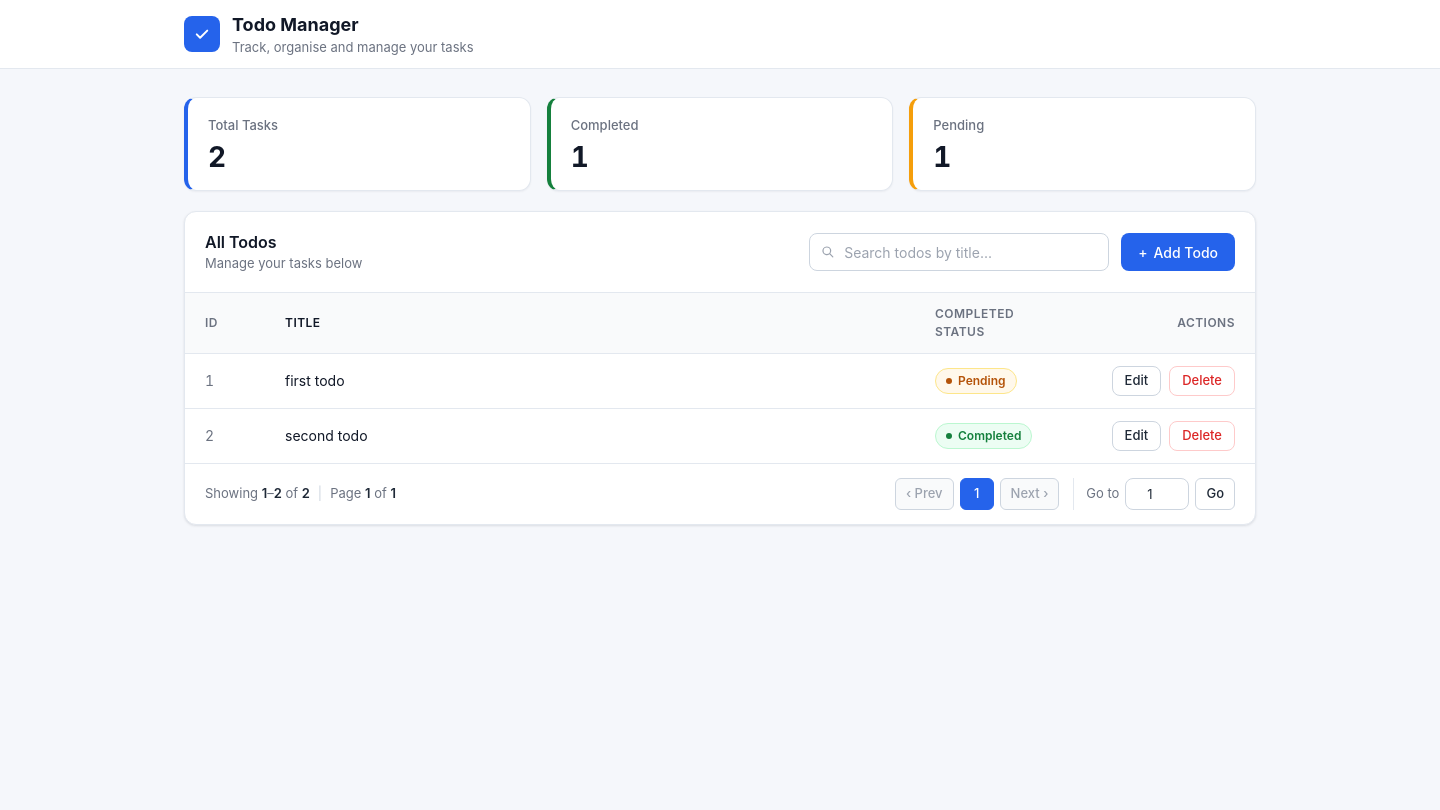
Scenario: Error handling › keeps the form open with an error message when the update fails
This screenshot has width=1440, height=810.
Click the button "Edit" in the row of "first todo": (1136, 381) [1112,366,1161,396]
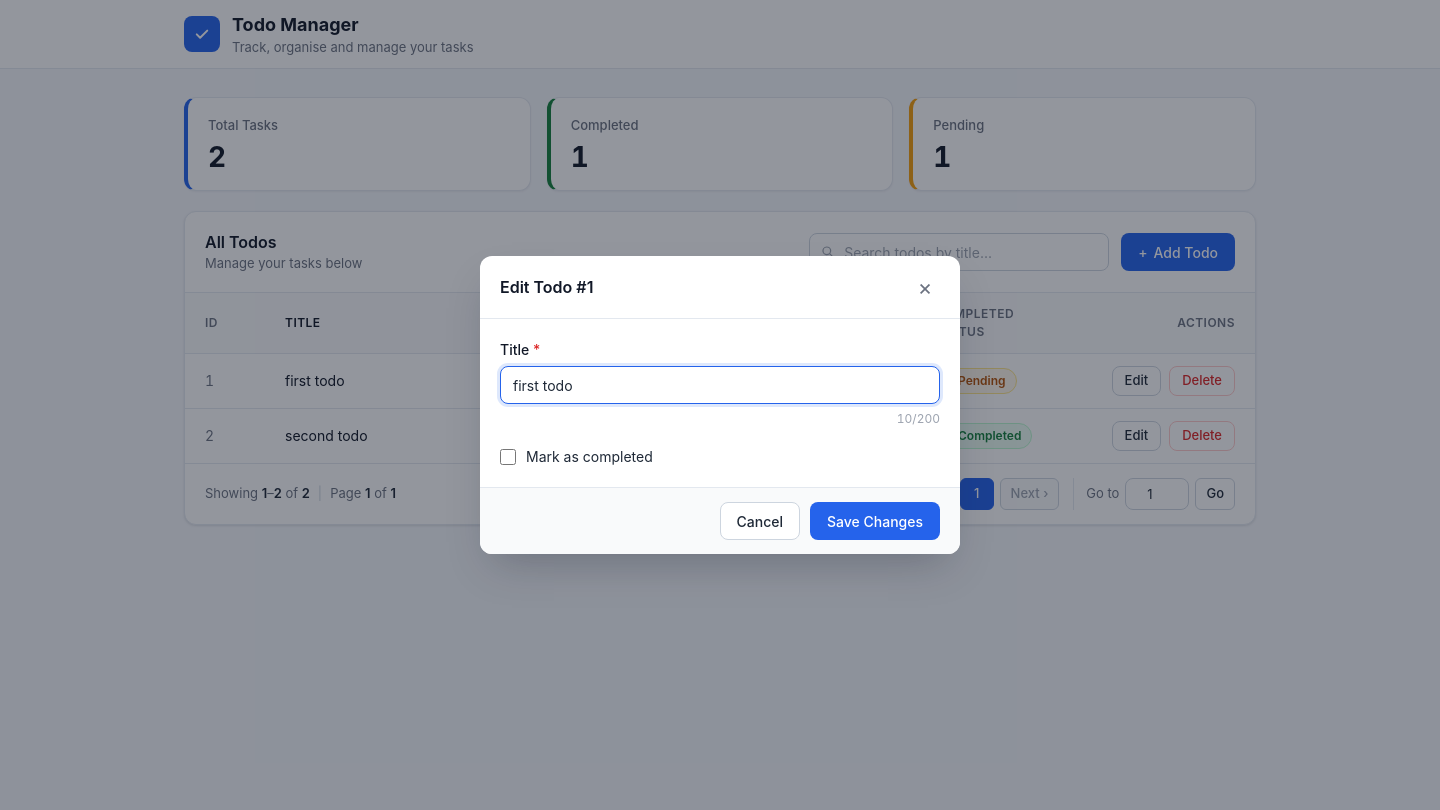
Click the button "Save Changes": (875, 521) [810,502,940,540]
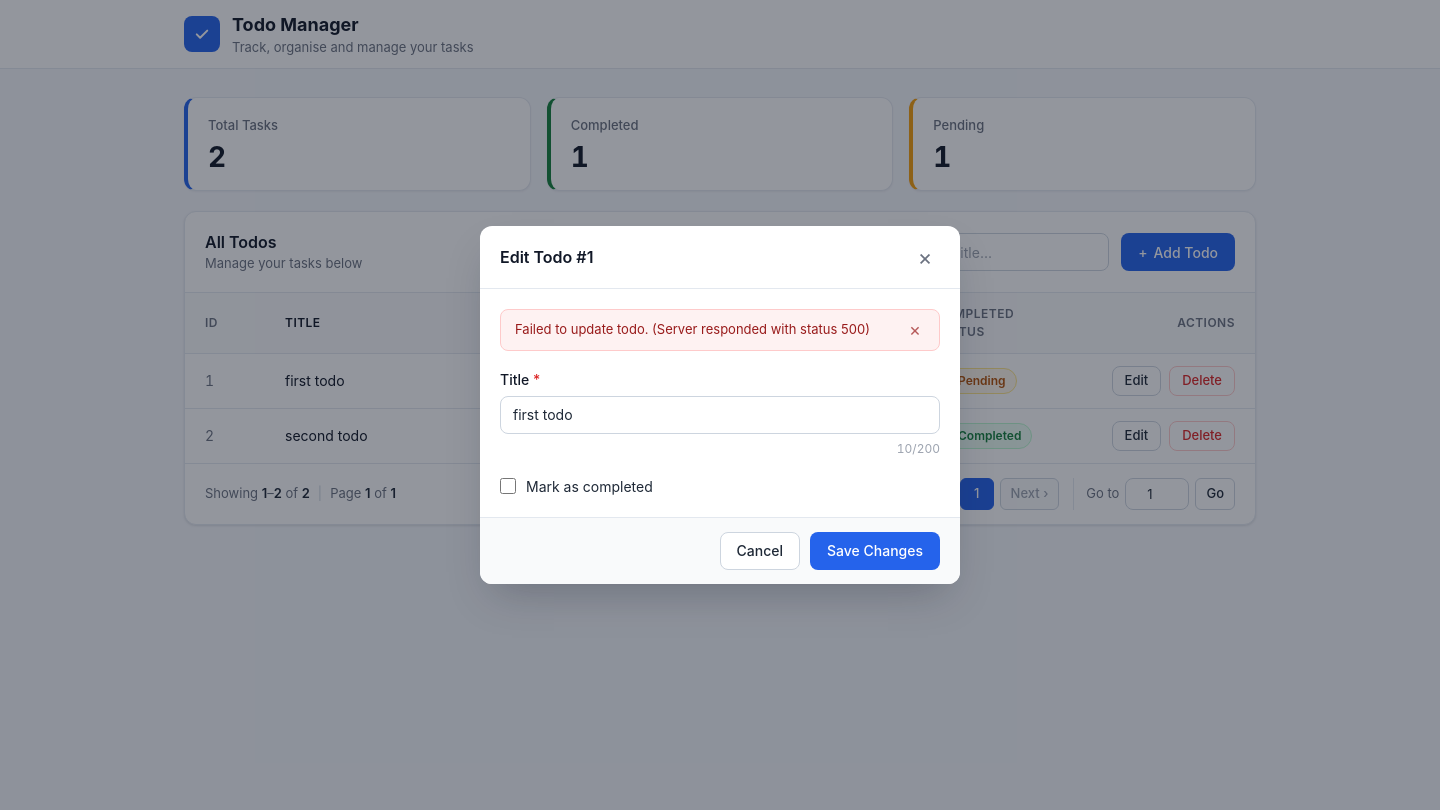
expect the text "first todo" is shown: met, box [265,353,915,408]
expect the dialog is shown: met, box [480,226,960,584]
expect the text "Failed to update todo. (Server responded with status 500)" is shown: met, box [515,320,870,340]
